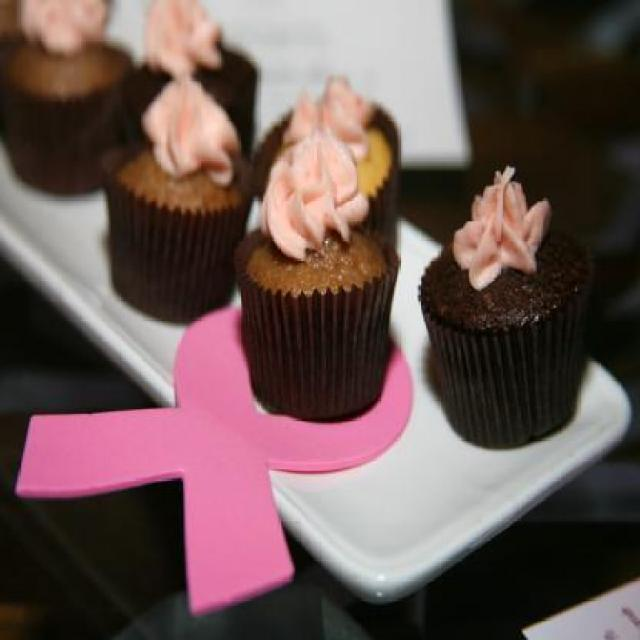Muffin: (418, 143, 600, 454), (236, 124, 402, 424), (103, 70, 254, 324), (245, 71, 400, 252), (0, 0, 135, 197), (128, 1, 258, 162)
